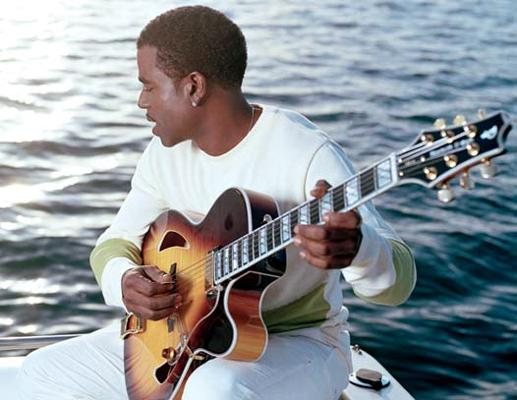person: (14, 5, 418, 399)
